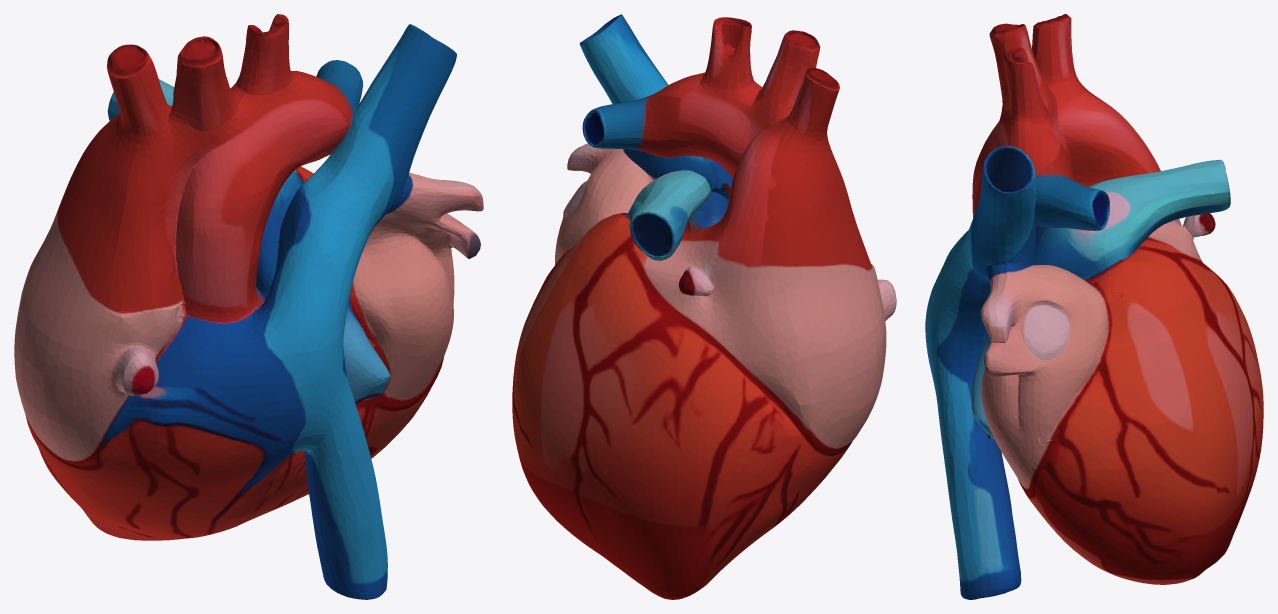
The picture shows the model from 3 angles, left to right: view 1: azimuth 30°, elevation 25°; view 2: azimuth 150°, elevation 25°; view 3: azimuth 270°, elevation 25°; orthographic projection. The views are drawn at different scales.
Visible parts, largest first — view 1: world; view 2: world; view 3: world.
Boxes of the visible parts, <box> form: world: <box>14,14,483,599</box>; world: <box>512,14,896,599</box>; world: <box>925,14,1263,599</box>.
Bounding box in the file's own units: 0.7146 × 0.9998 × 0.5926.
Materials: 1 (1 with a texture image).
